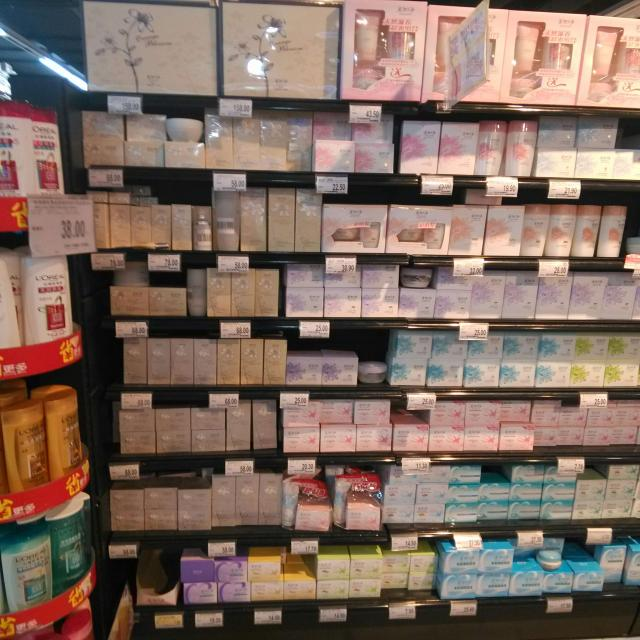unorganised: (407, 551, 438, 590), (381, 550, 406, 591), (247, 556, 281, 581)
